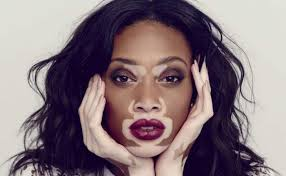vitiligo: (50, 20, 237, 168)
